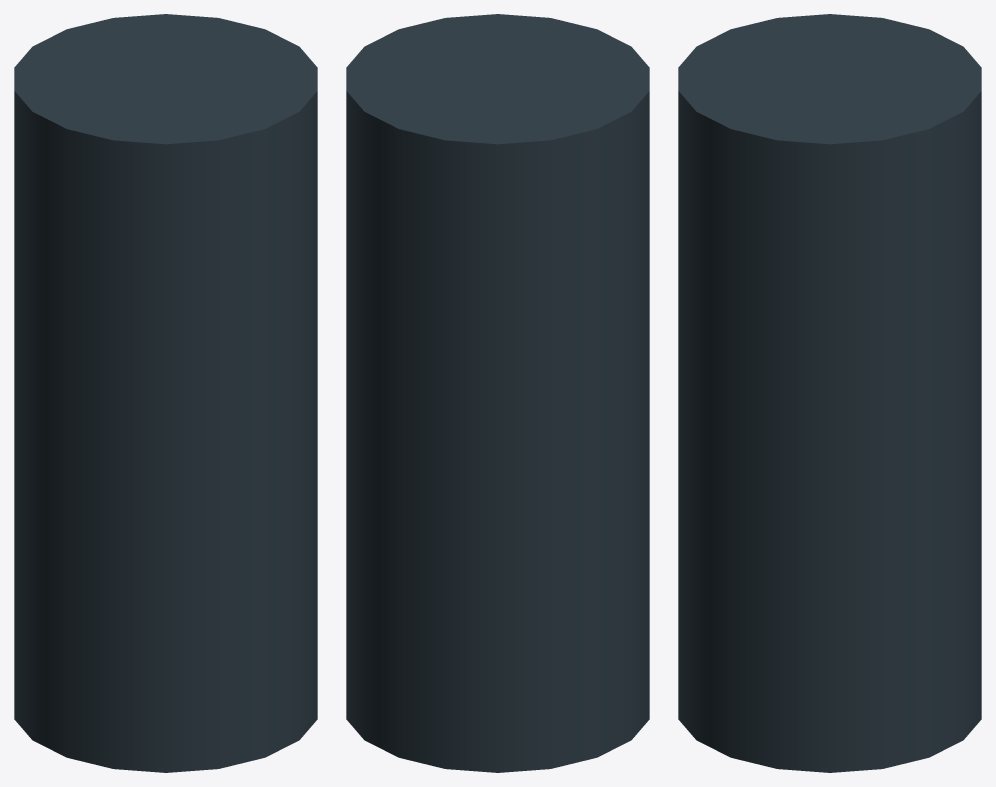
Rendered from columnaB.DAE.
The picture shows the model from 3 angles, left to right: view 1: azimuth 30°, elevation 25°; view 2: azimuth 150°, elevation 25°; view 3: azimuth 270°, elevation 25°; orthographic projection.
Parts seen in each view (by area): view 1: columnaB; view 2: columnaB; view 3: columnaB.
Part boxes in pixels (box(x1,y1,x2,y2)): columnaB: box(14, 14, 317, 772); columnaB: box(346, 14, 649, 772); columnaB: box(678, 14, 981, 772).
Bounding box in the file's own units: 1.2 × 1.18 × 2.7.
